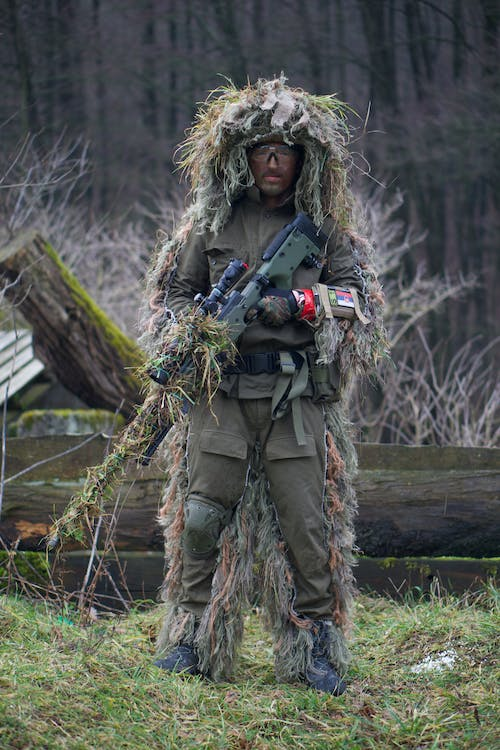gun: (42, 207, 336, 555)
